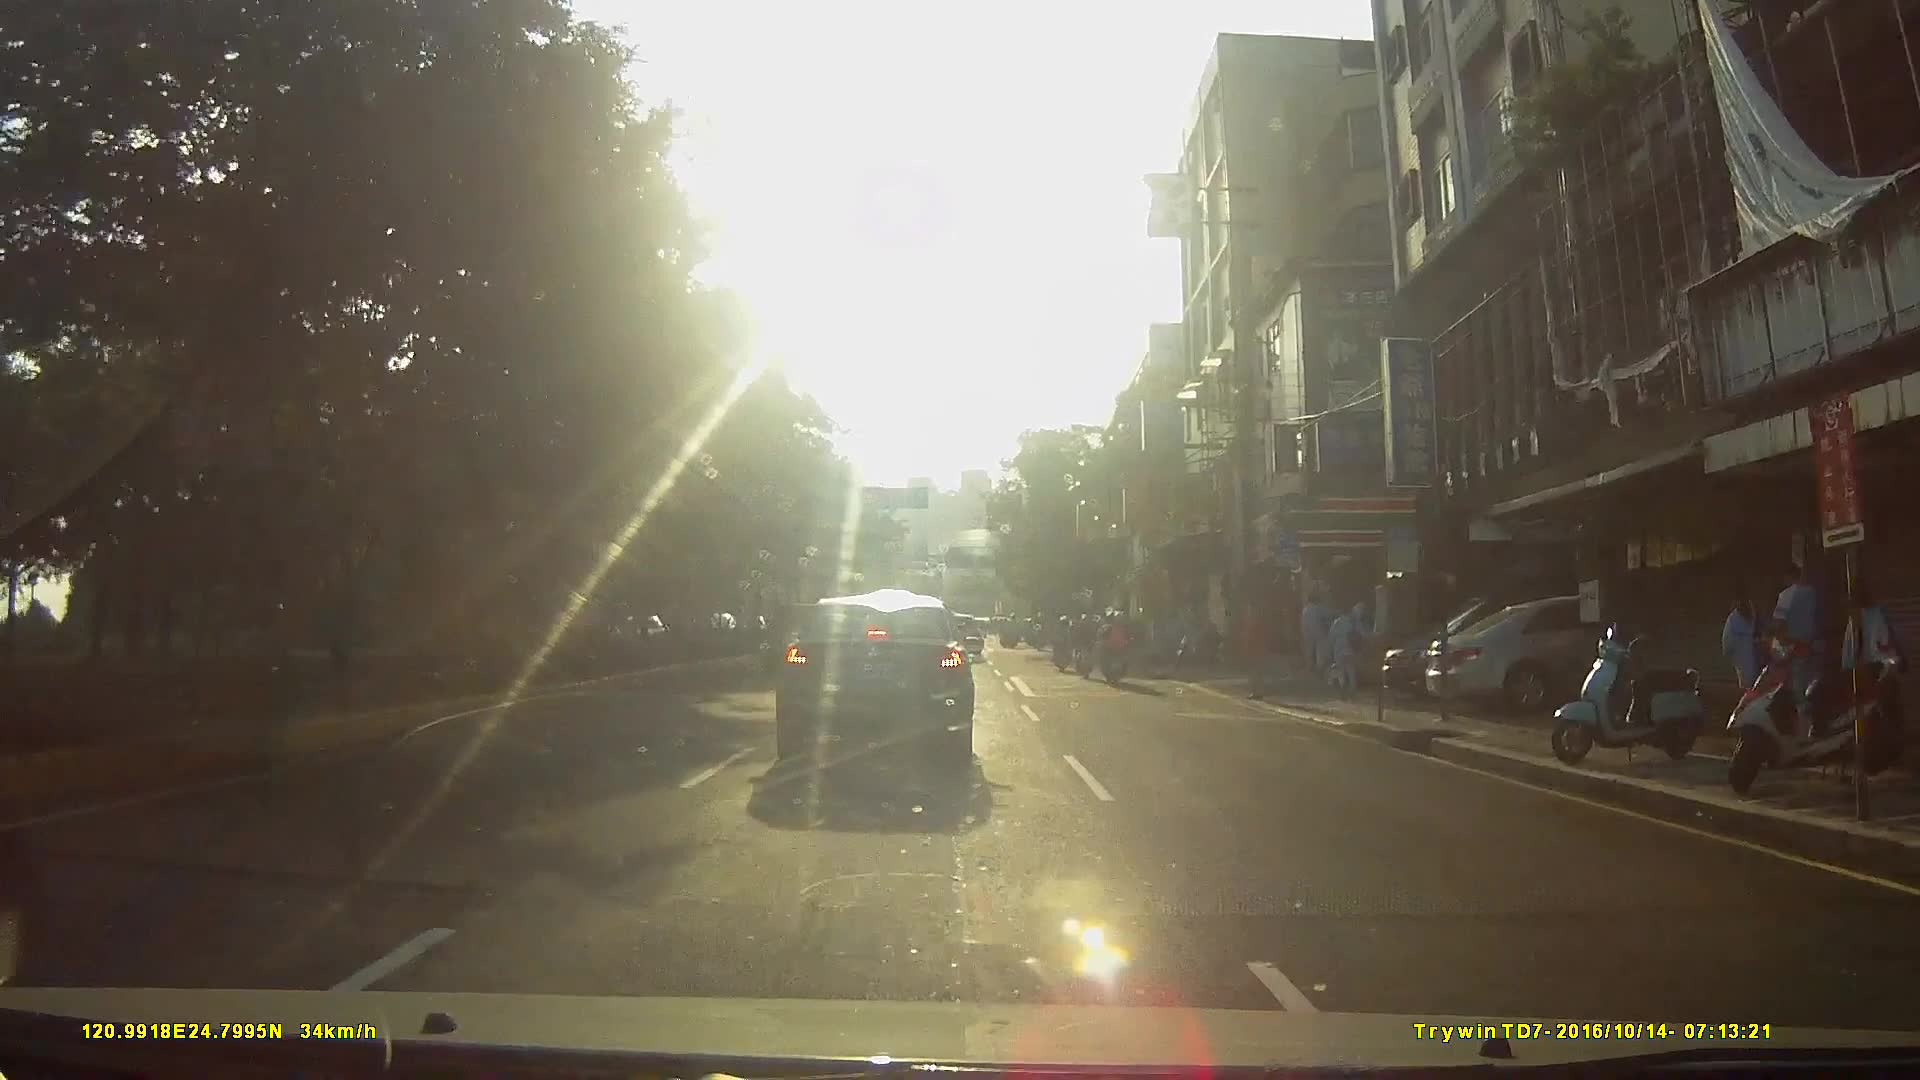pedestrian: (1769, 555, 1828, 758), (1837, 579, 1903, 754), (1722, 579, 1766, 737), (1324, 598, 1370, 703)
rider: (1098, 611, 1136, 692), (1071, 613, 1097, 683), (1051, 617, 1075, 677)
vehicle: (756, 581, 996, 780), (1420, 590, 1764, 713)
